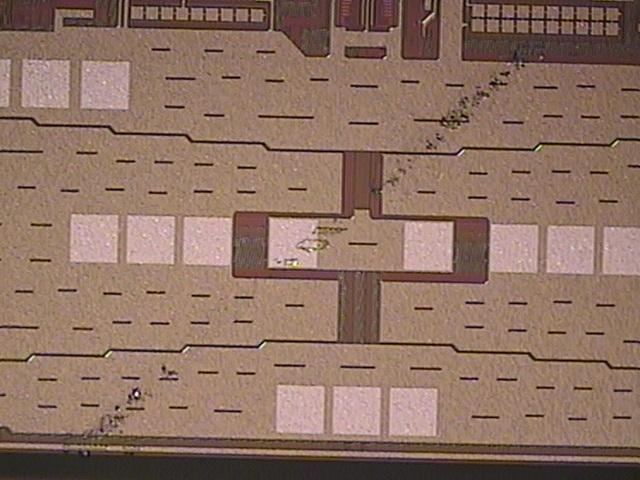SCRATCH: (60, 38, 546, 465)
